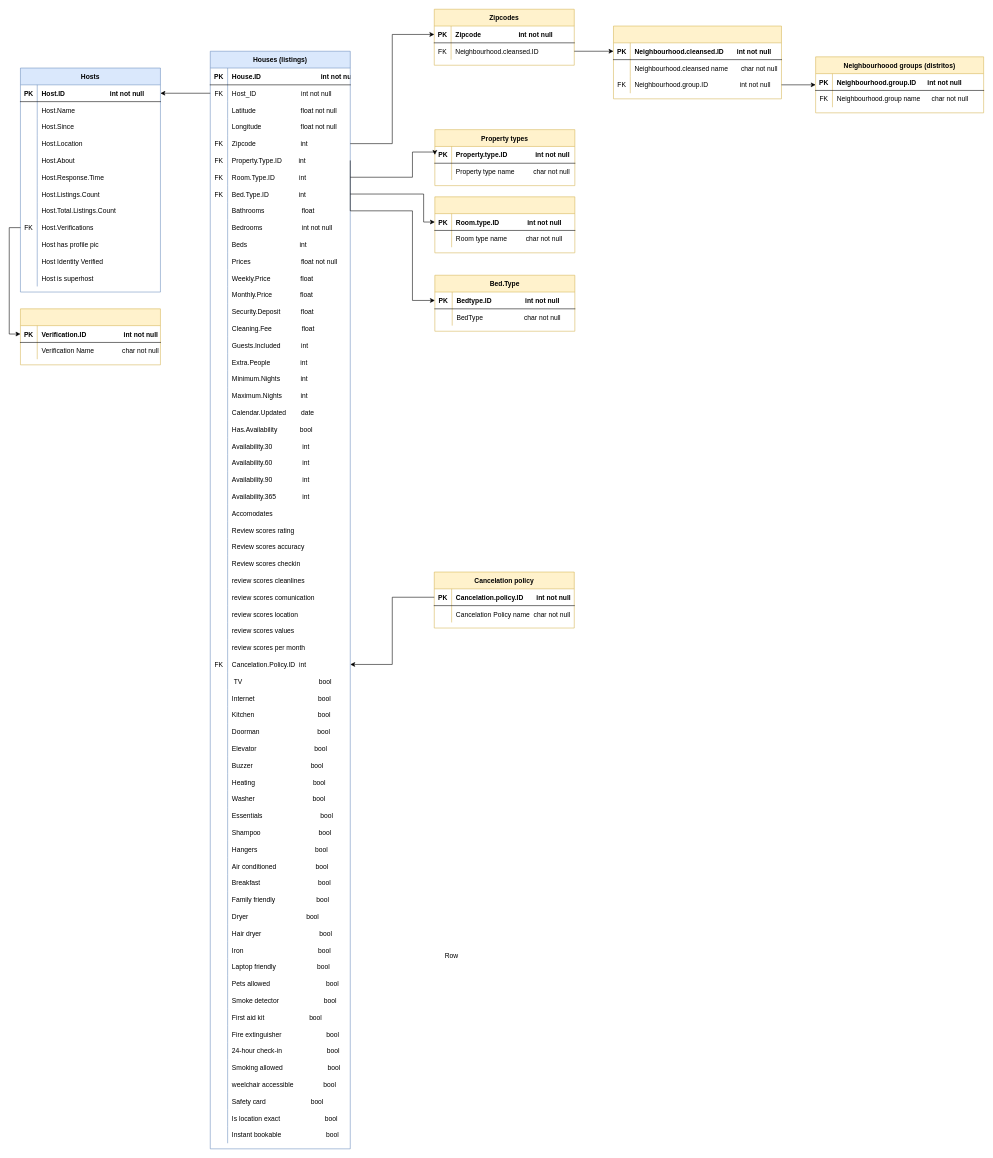
Image size: 993x1158. Some labels were removed from this diagram. The box of each missing label's shape, as (x1, y1, x2, y2) in pixels:
Neighbourhooods (barrios): (613, 25, 781, 99)
Room types: (434, 196, 575, 253)
Verifications: (20, 308, 160, 365)
